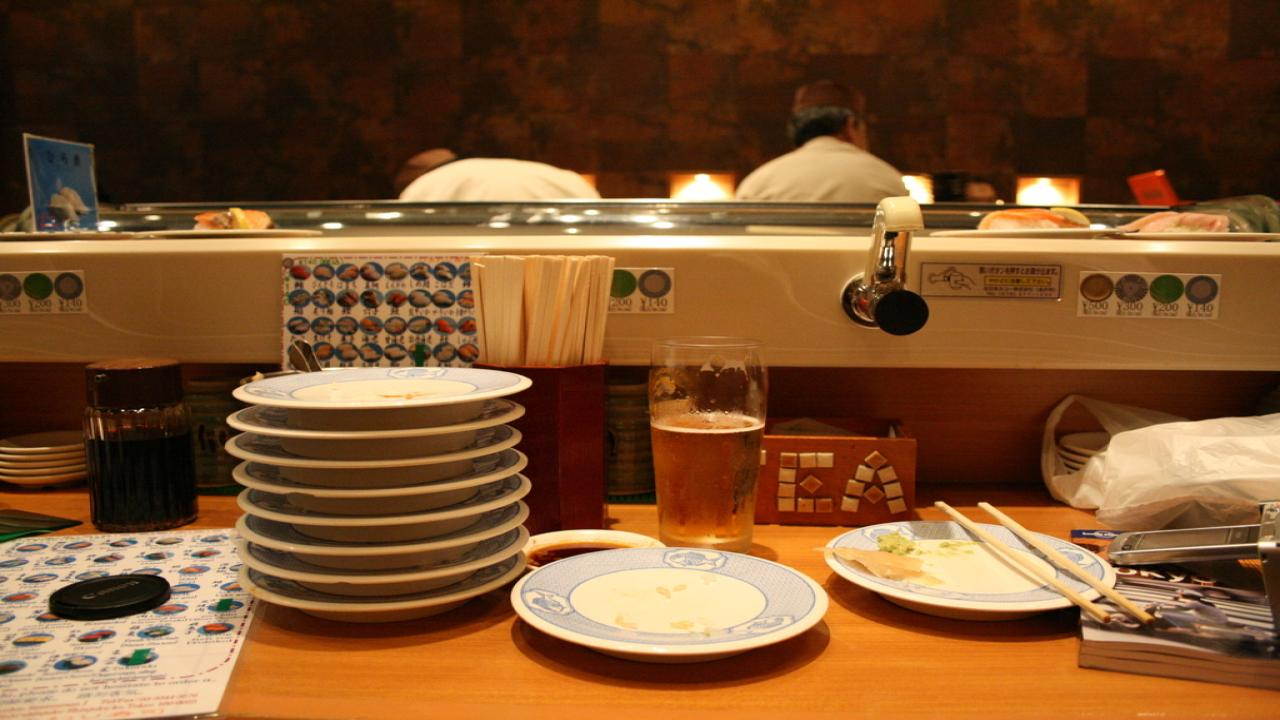chopstick: (934, 496, 1156, 626)
